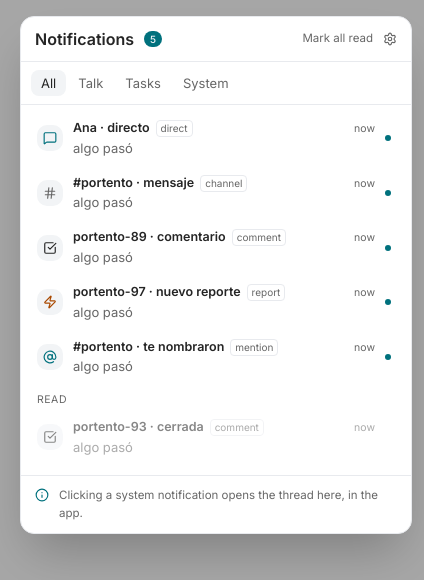
Test: el panel de notificaciones › «Talk» recoge lo conversacional y deja fuera lo demás
Step 1. Click the button "Talk" → (91, 83), box [68, 70, 113, 96]
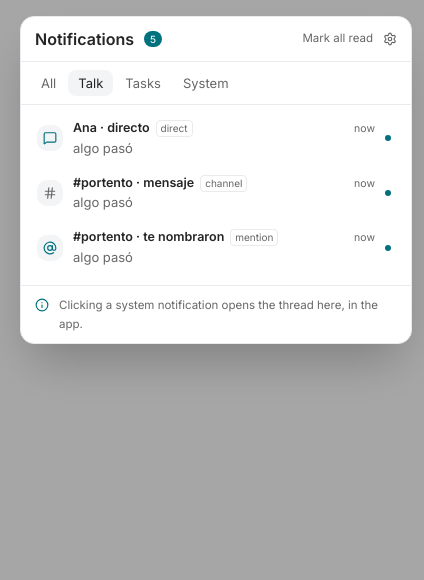
Check: the text "#portento · te nombraron" is shown, box [73, 228, 224, 247]
Check: the button "portento-97 · nuevo reporte" is gone
Check: the button "portento-89 · comentario" is gone
